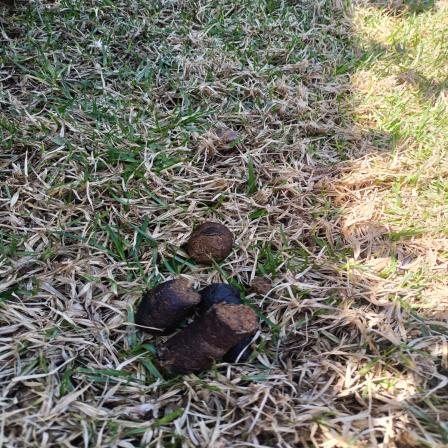dog-poop: (128, 215, 277, 378)
